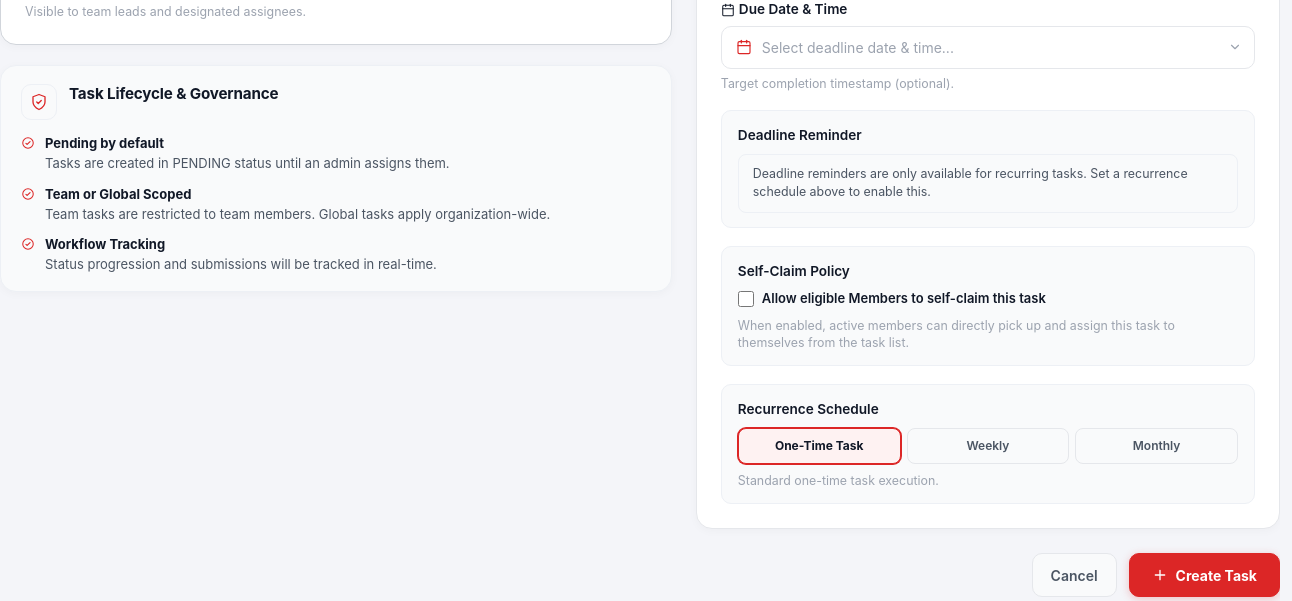
Test: TaskCreatePage › validates that title is required
This screenshot has width=1292, height=601.
(page scrolled)
Step 1. Click the button "Create Task" → {"x": 1204, "y": 575}, box [1129,553,1280,597]
(page scrolled)
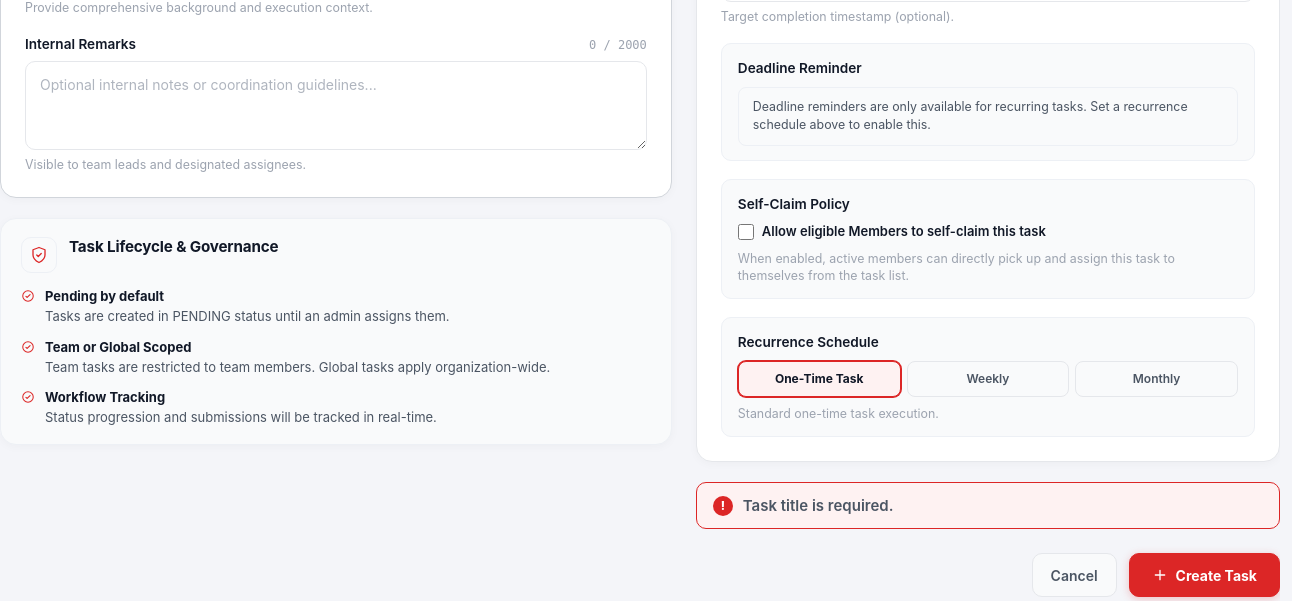
Now the text "Task title is required." is shown, box [743,495,894,516]
